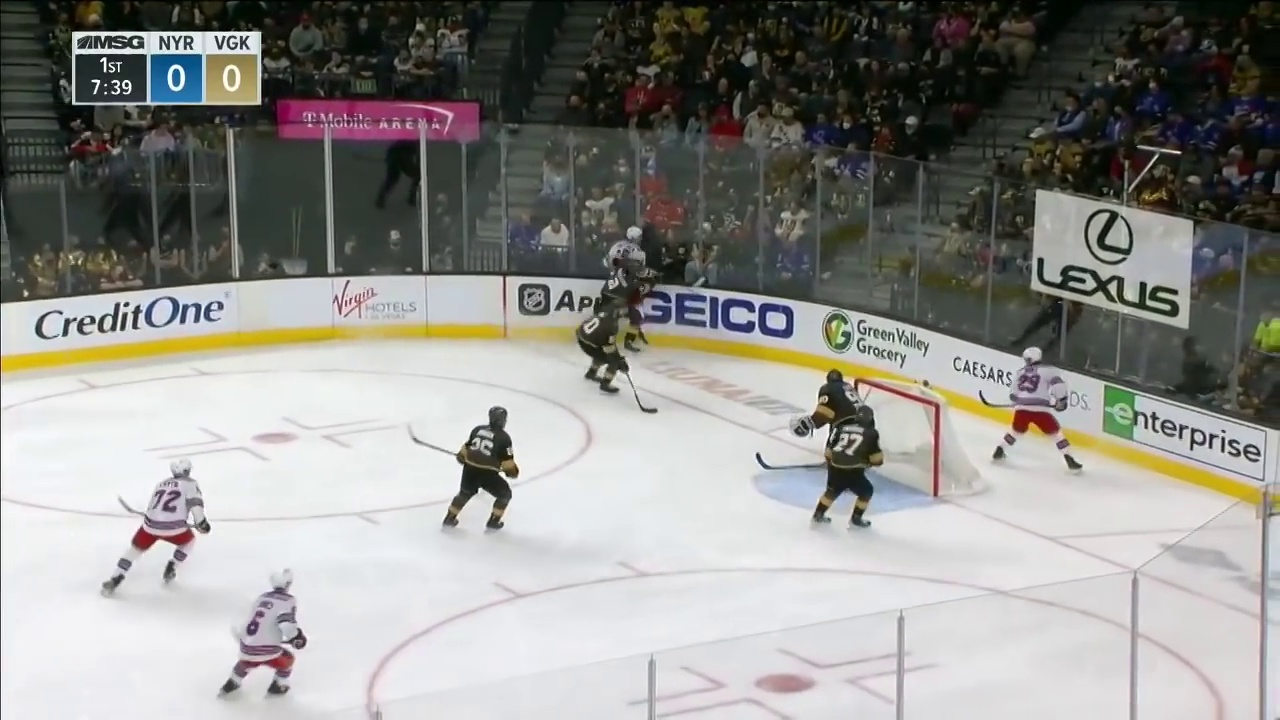goalie: (789, 369, 864, 469)
hockeyplayer: (103, 457, 212, 598), (218, 566, 307, 701), (990, 346, 1083, 474), (439, 406, 519, 535), (811, 406, 884, 531), (603, 226, 655, 344), (576, 300, 631, 395), (601, 259, 656, 353)
